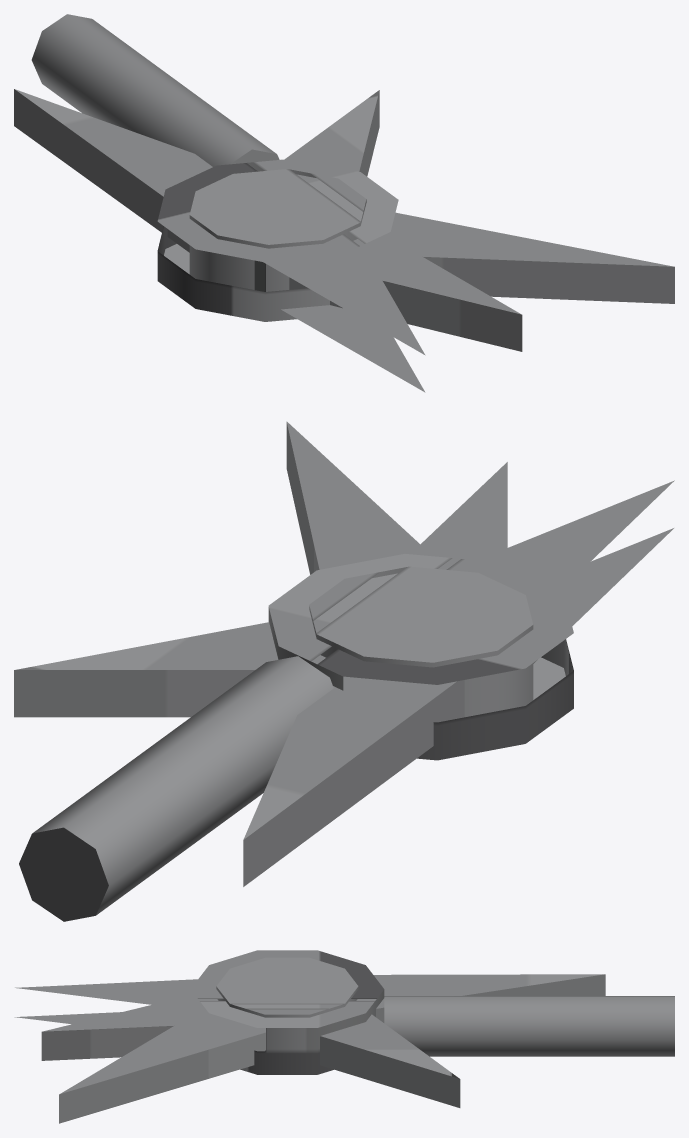
3 views of the same model, one above another, from view 1: azimuth 30°, elevation 25°; view 2: azimuth 150°, elevation 25°; view 3: azimuth 270°, elevation 25° (orthographic). The views are drawn at different scales.
Bounding box in the file's own units: 0.9924 × 0.2 × 2.05.
